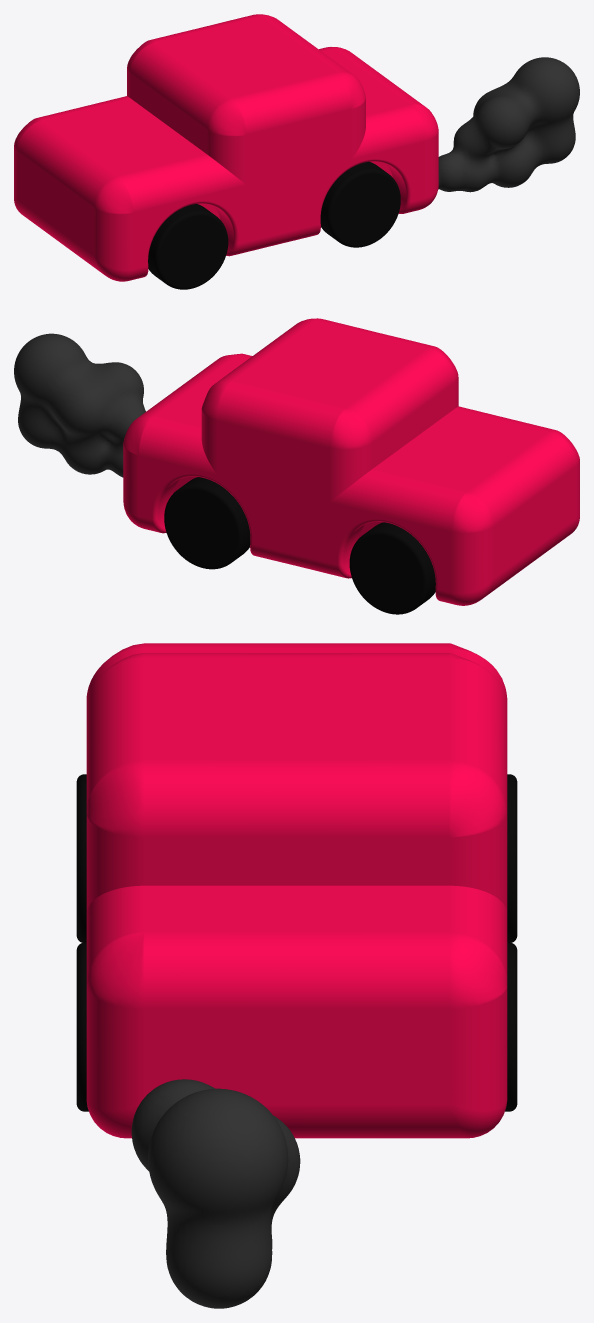
File: Car.fbx
3 renders of one model, top to bottom at view 1: azimuth 30°, elevation 25°; view 2: azimuth 150°, elevation 25°; view 3: azimuth 270°, elevation 25°, orthographic. The views are drawn at different scales.
Parts seen in each view (by area): view 1: car_body, bad_bits, wheel3, wheel1; view 2: car_body, bad_bits, wheel4, wheel2; view 3: car_body, bad_bits, wheel4, wheel3, wheel1, wheel2.
Part boxes in pixels (x1,y1,x2,y2): car_body: [14, 14, 438, 281]; bad_bits: [438, 57, 579, 192]; wheel3: [320, 161, 400, 247]; wheel1: [148, 204, 228, 289]; car_body: [123, 318, 579, 605]; bad_bits: [14, 333, 145, 477]; wheel4: [164, 477, 250, 569]; wheel2: [349, 522, 435, 614]; car_body: [86, 643, 507, 1138]; bad_bits: [131, 1079, 300, 1308]; wheel4: [505, 942, 517, 1111]; wheel3: [76, 942, 88, 1111]; wheel1: [76, 774, 86, 942]; wheel2: [507, 774, 517, 942].
Size of the model in its own units: 1494 by 570 by 494.
